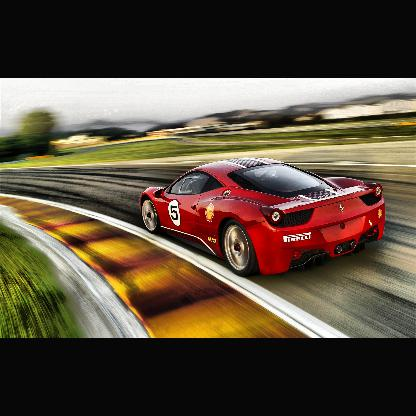Ferrari 458 Italia Coupe 2012: (138, 158, 386, 275)
